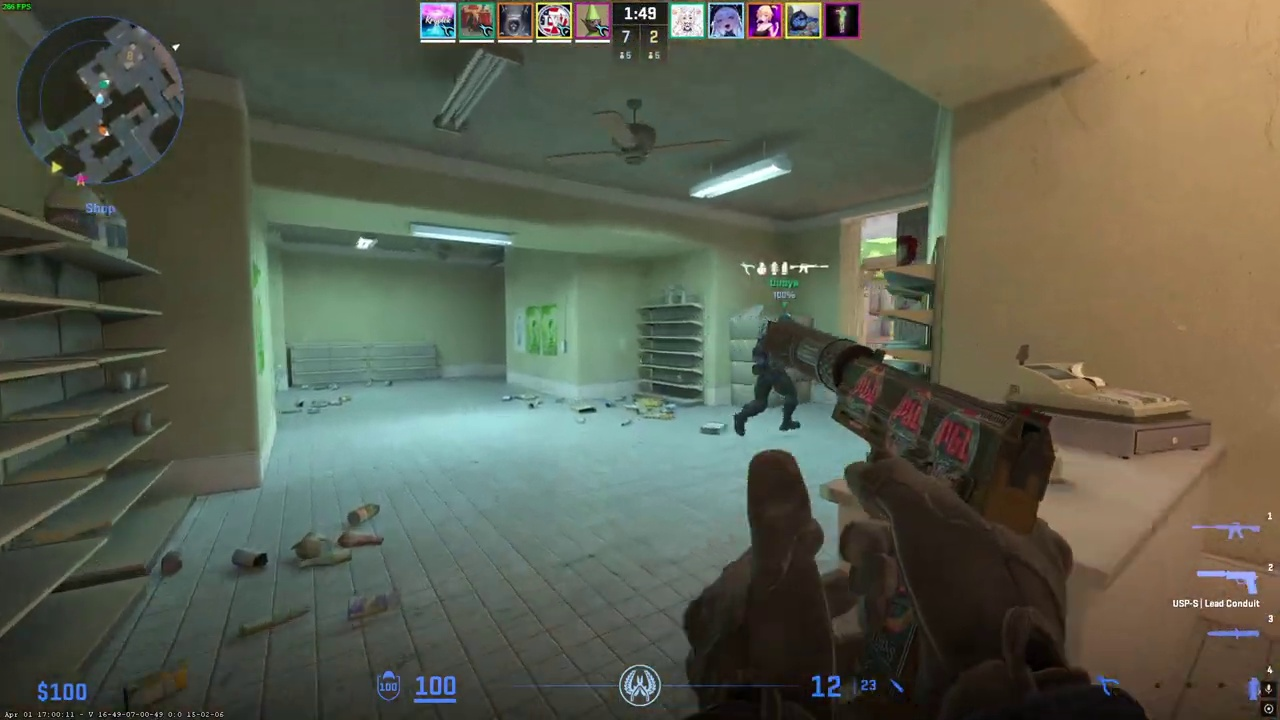CT: (735, 312, 803, 436)
